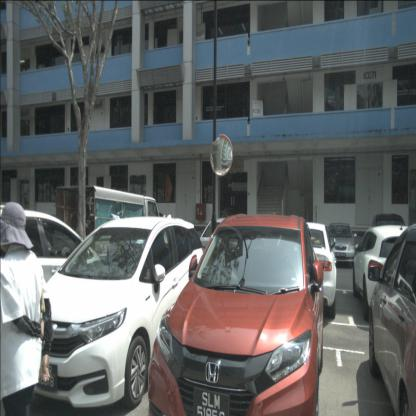human-pedestrian-adult: (0, 202, 53, 416)
vehicle-car: (21, 214, 204, 408), (148, 214, 324, 415), (0, 209, 104, 366), (368, 223, 416, 415), (352, 224, 416, 322), (276, 222, 338, 319), (326, 222, 357, 266)
vehicle-truck: (56, 186, 163, 283)
